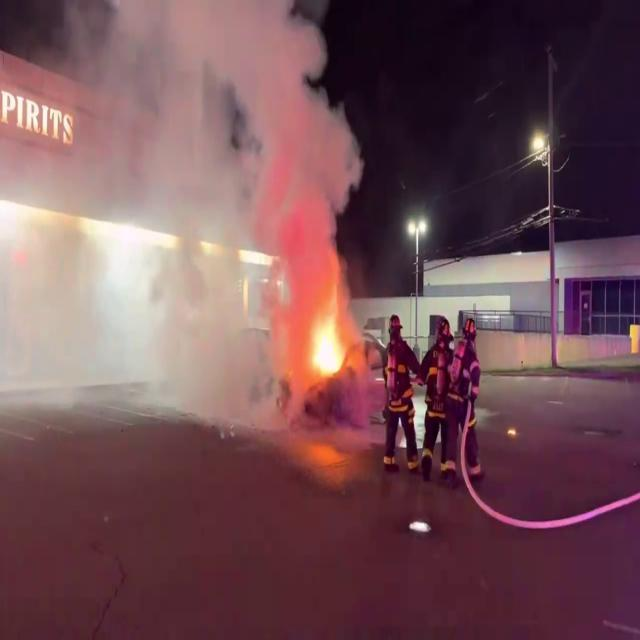Fire: (299, 300, 356, 387)
Smoke: (2, 0, 368, 440)
